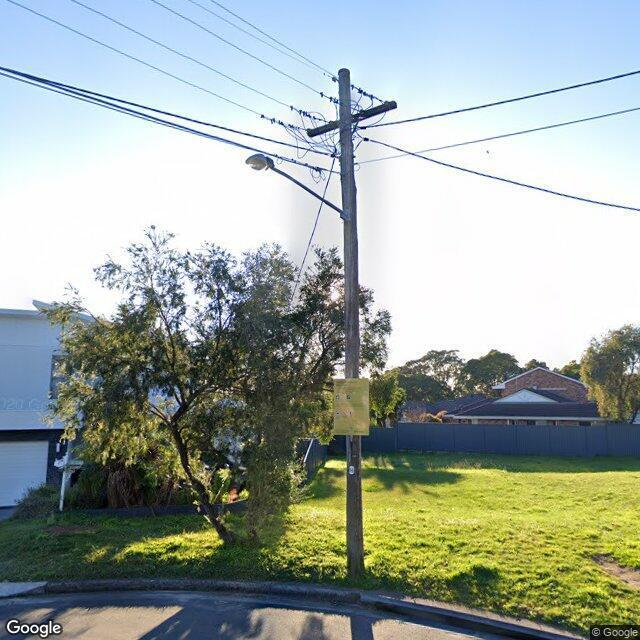crossarm: (306, 99, 398, 137)
streetlight: (246, 153, 350, 221)
timber-pole: (336, 68, 364, 579)
